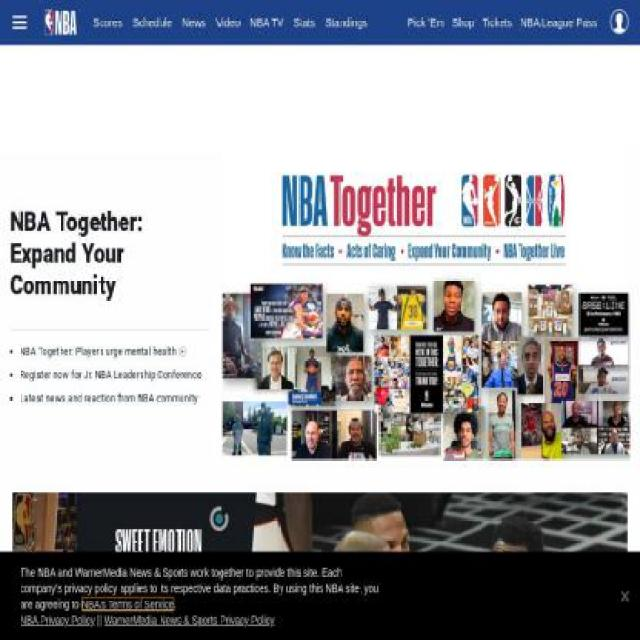button: (223, 153, 632, 459), (12, 492, 628, 639), (10, 205, 208, 322), (52, 526, 175, 640), (0, 492, 14, 639), (627, 492, 639, 639), (519, 12, 598, 32), (482, 12, 512, 32), (408, 16, 444, 29), (452, 16, 474, 29)
